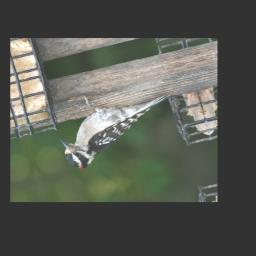Woodpecker: (50, 76, 185, 172)
